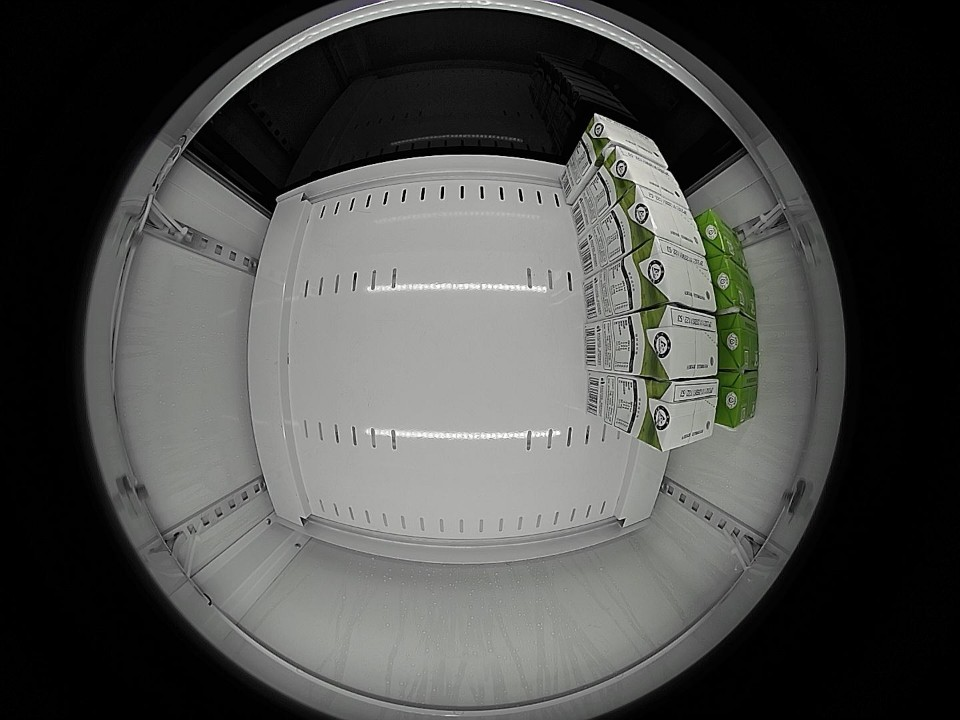mengniu: (638, 237, 716, 312), (643, 377, 720, 452), (624, 187, 705, 256), (646, 306, 718, 379), (604, 146, 688, 206), (582, 113, 668, 167)
mengniuzaocan: (697, 208, 747, 269), (711, 257, 757, 317), (718, 370, 760, 429), (719, 313, 759, 371)
